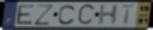C: (77, 3, 97, 27), (57, 4, 77, 26)
E: (16, 4, 36, 25)
H: (97, 4, 120, 26)
T: (121, 4, 137, 26)
Z: (33, 4, 55, 27)
